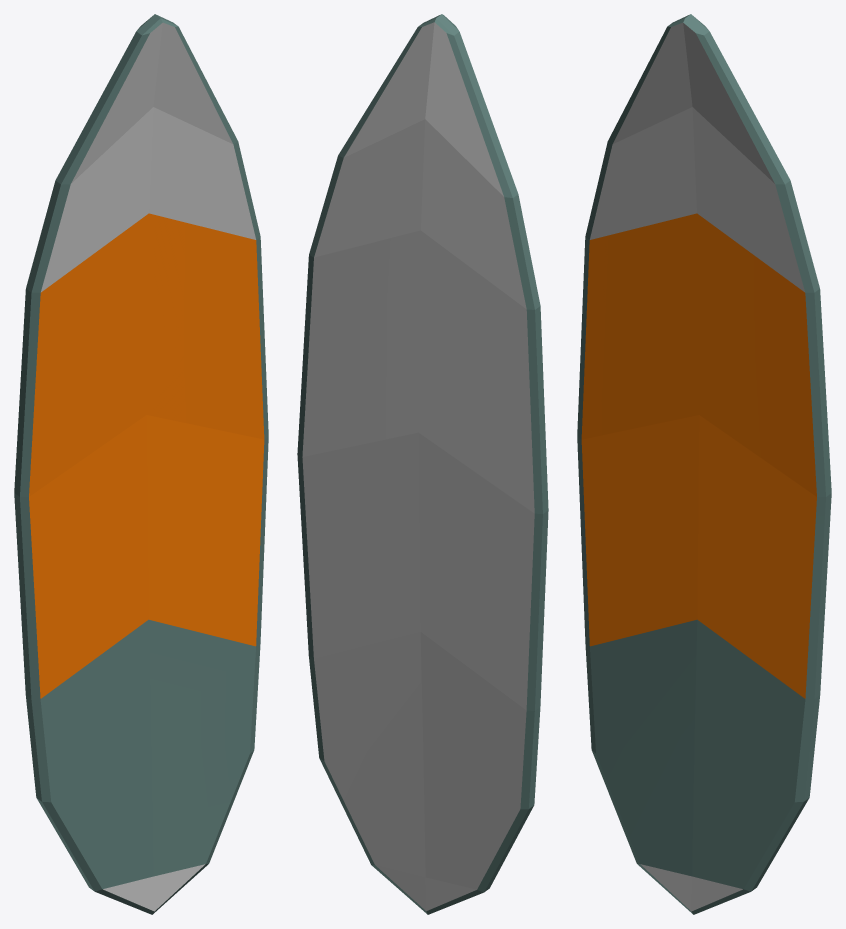
File: SM_Props_SurfBoard_02.fbx
The picture shows the model from 3 angles, left to right: view 1: azimuth 30°, elevation 25°; view 2: azimuth 150°, elevation 25°; view 3: azimuth 330°, elevation 25°; orthographic projection.
Visible parts, largest first — view 1: SM_Props_SurfBoard_02; view 2: SM_Props_SurfBoard_02; view 3: SM_Props_SurfBoard_02.
Part boxes in pixels (x1,y1,x2,y2): SM_Props_SurfBoard_02: (14, 14, 268, 914); SM_Props_SurfBoard_02: (297, 14, 548, 914); SM_Props_SurfBoard_02: (577, 14, 831, 914).
Size of the model in its own units: 0.6903 by 2.39 by 0.1239.
